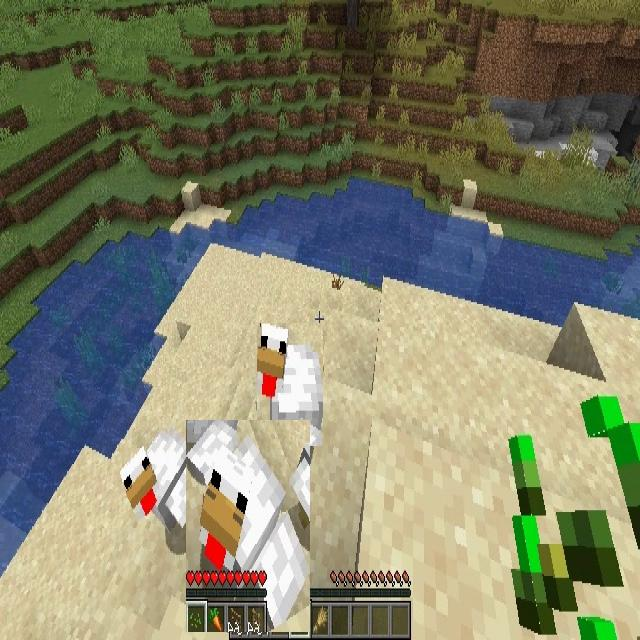duck: (187, 420, 310, 632), (120, 431, 204, 532), (257, 323, 323, 446)
